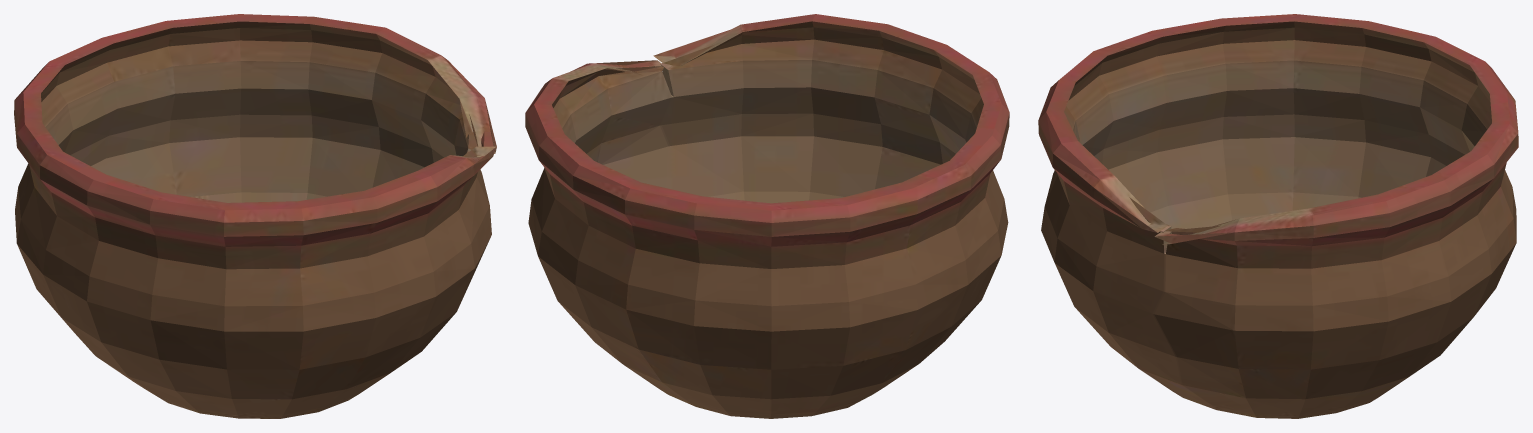
File: BR33_cracked_pots_v2.glb
The picture shows the model from 3 angles, left to right: view 1: azimuth 30°, elevation 25°; view 2: azimuth 150°, elevation 25°; view 3: azimuth 270°, elevation 25°; orthographic projection.
Visible parts, largest first — view 1: Chipped Clay Basin; view 2: Chipped Clay Basin; view 3: Chipped Clay Basin.
Part boxes in pixels (x1,y1,x2,y2): Chipped Clay Basin: [14, 14, 496, 418]; Chipped Clay Basin: [525, 14, 1009, 418]; Chipped Clay Basin: [1038, 14, 1518, 418].
Bounding box in the file's own units: 0.3999 × 0.2335 × 0.4.
4 materials, 4 textured.
